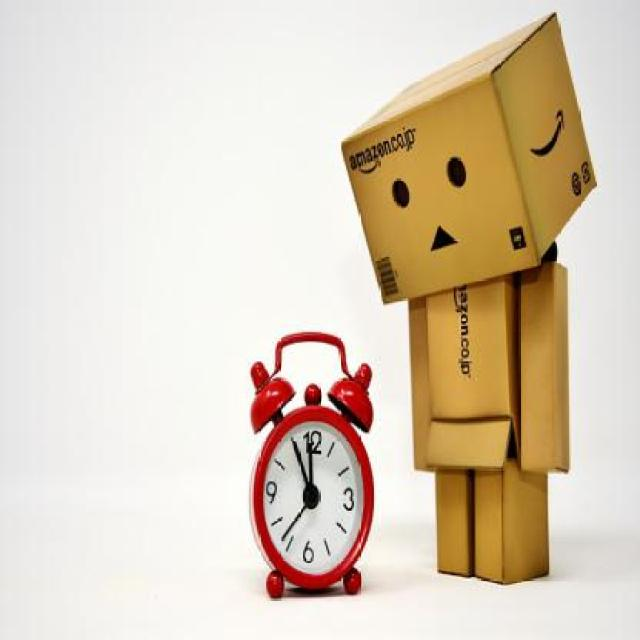clock: (265, 424, 361, 576)
